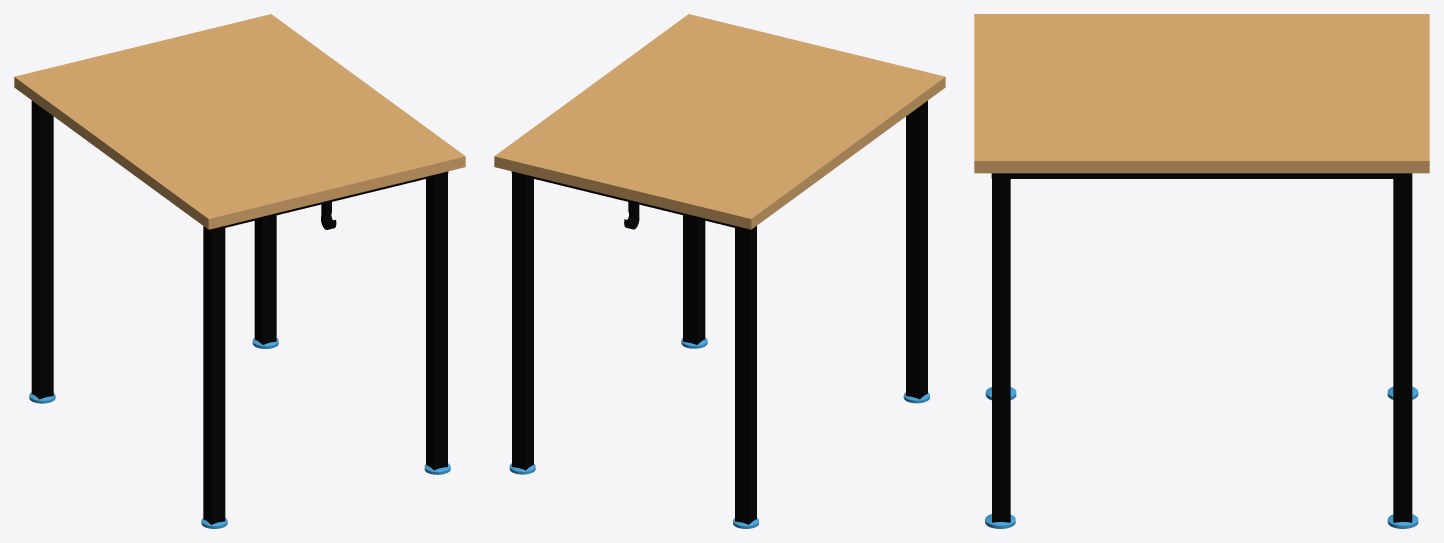
Rendered from lawka.fbx.
The picture shows the model from 3 angles, left to right: view 1: azimuth 30°, elevation 25°; view 2: azimuth 150°, elevation 25°; view 3: azimuth 270°, elevation 25°; orthographic projection. The views are drawn at different scales.
Visible parts, largest first — view 1: Kostka.004; view 2: Kostka.004; view 3: Kostka.004.
Part boxes in pixels (bbox=[...]): Kostka.004: bbox=[14, 14, 465, 528]; Kostka.004: bbox=[494, 14, 945, 528]; Kostka.004: bbox=[974, 14, 1429, 528].
Size of the model in its own units: 153 by 180 by 200.
